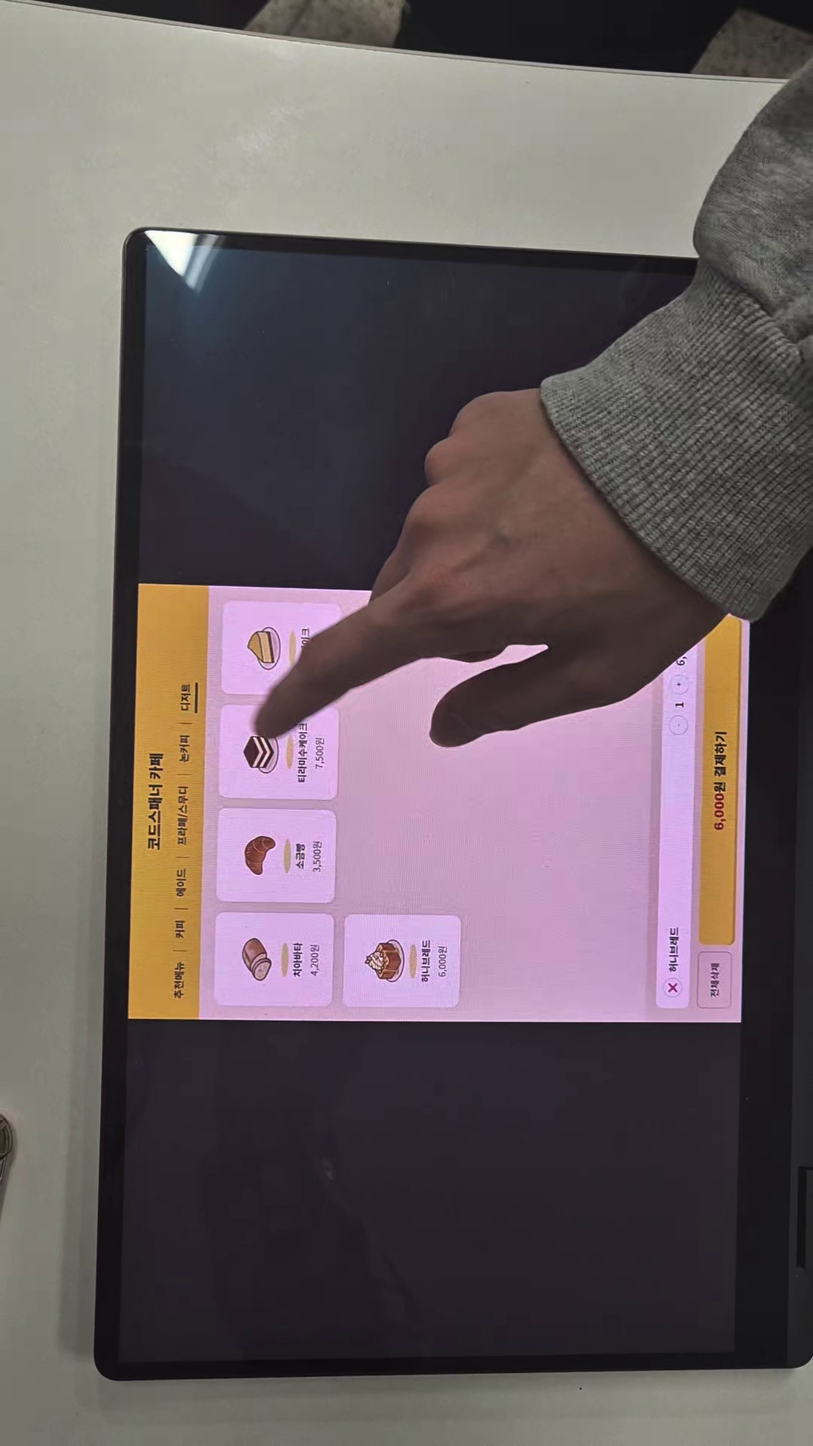action_button: (702, 614, 742, 947), (699, 952, 735, 1009)
cart_item: (655, 614, 695, 1006)
category_tab: (175, 783, 191, 852), (171, 678, 194, 717), (170, 959, 187, 1007), (172, 730, 194, 767), (174, 865, 191, 905), (172, 916, 189, 944)
menu_back: (215, 911, 333, 1007), (219, 809, 339, 903), (221, 603, 342, 695), (222, 706, 340, 800), (343, 916, 462, 1006)
menu_name: (295, 718, 308, 782), (417, 937, 432, 988), (292, 940, 305, 980), (295, 842, 305, 875)
menu_price: (313, 735, 331, 776), (309, 835, 326, 874), (309, 940, 323, 975), (436, 943, 448, 981)
